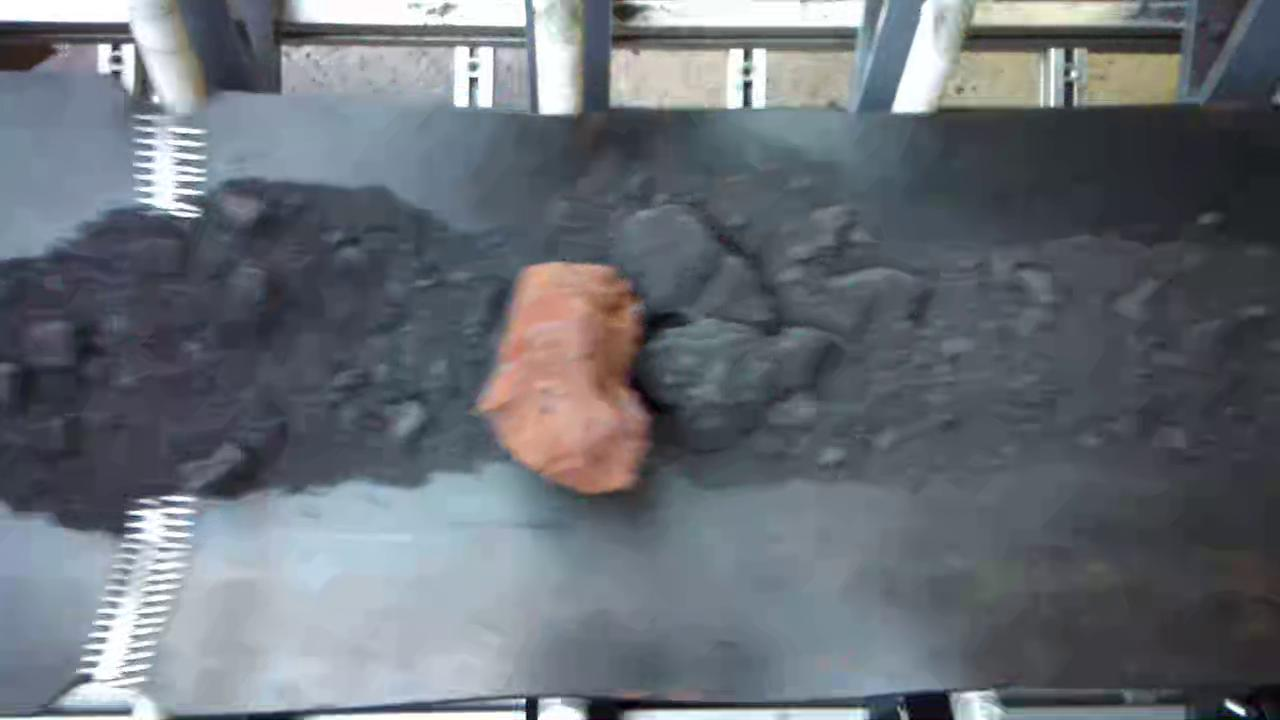conveyor: (0, 113, 1280, 686)
